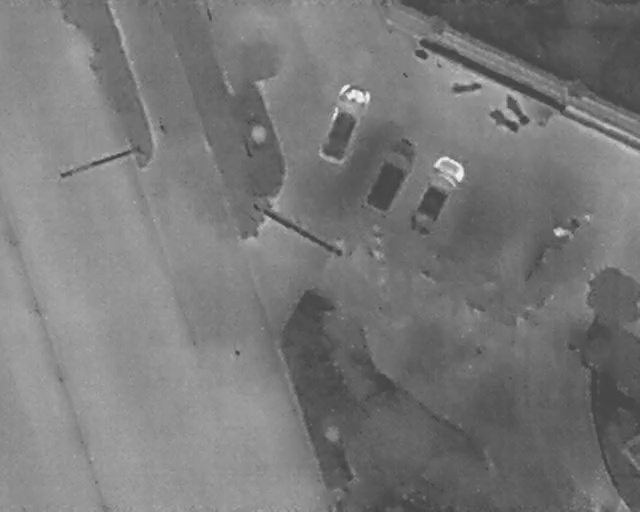Bicycle: (547, 210, 584, 248), (499, 88, 533, 129), (486, 103, 523, 138), (450, 77, 485, 95)
Car: (398, 149, 473, 242), (356, 128, 427, 220), (310, 75, 378, 169)
